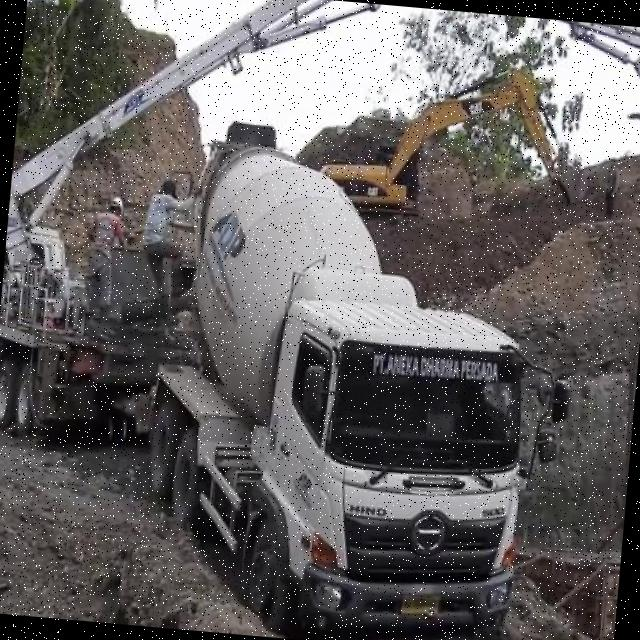Excavator: (318, 51, 590, 226)
